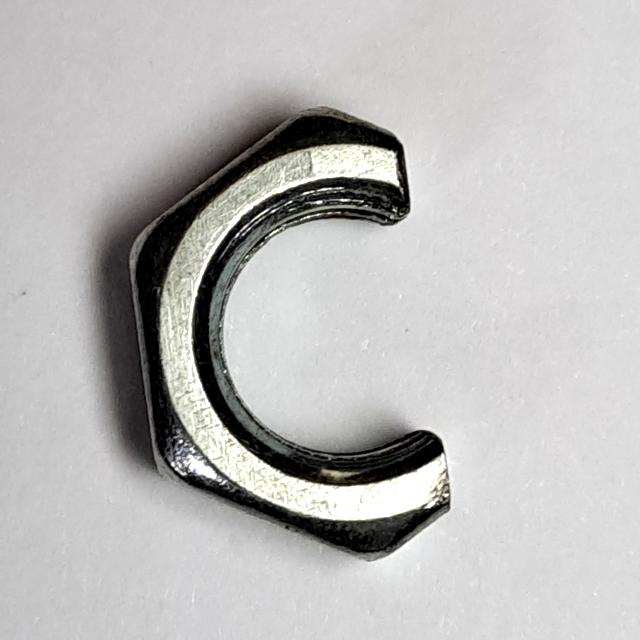Fracture: (120, 91, 479, 573)
